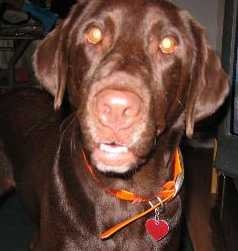dog: (37, 0, 224, 229)
